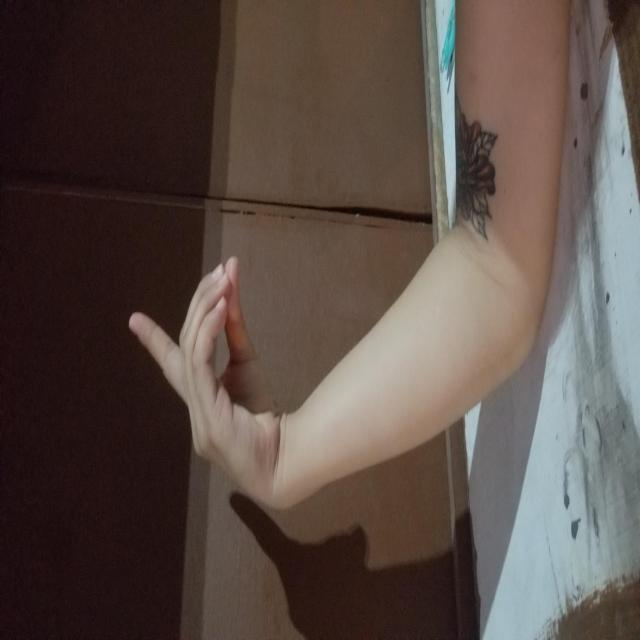D: (129, 127, 386, 276)
